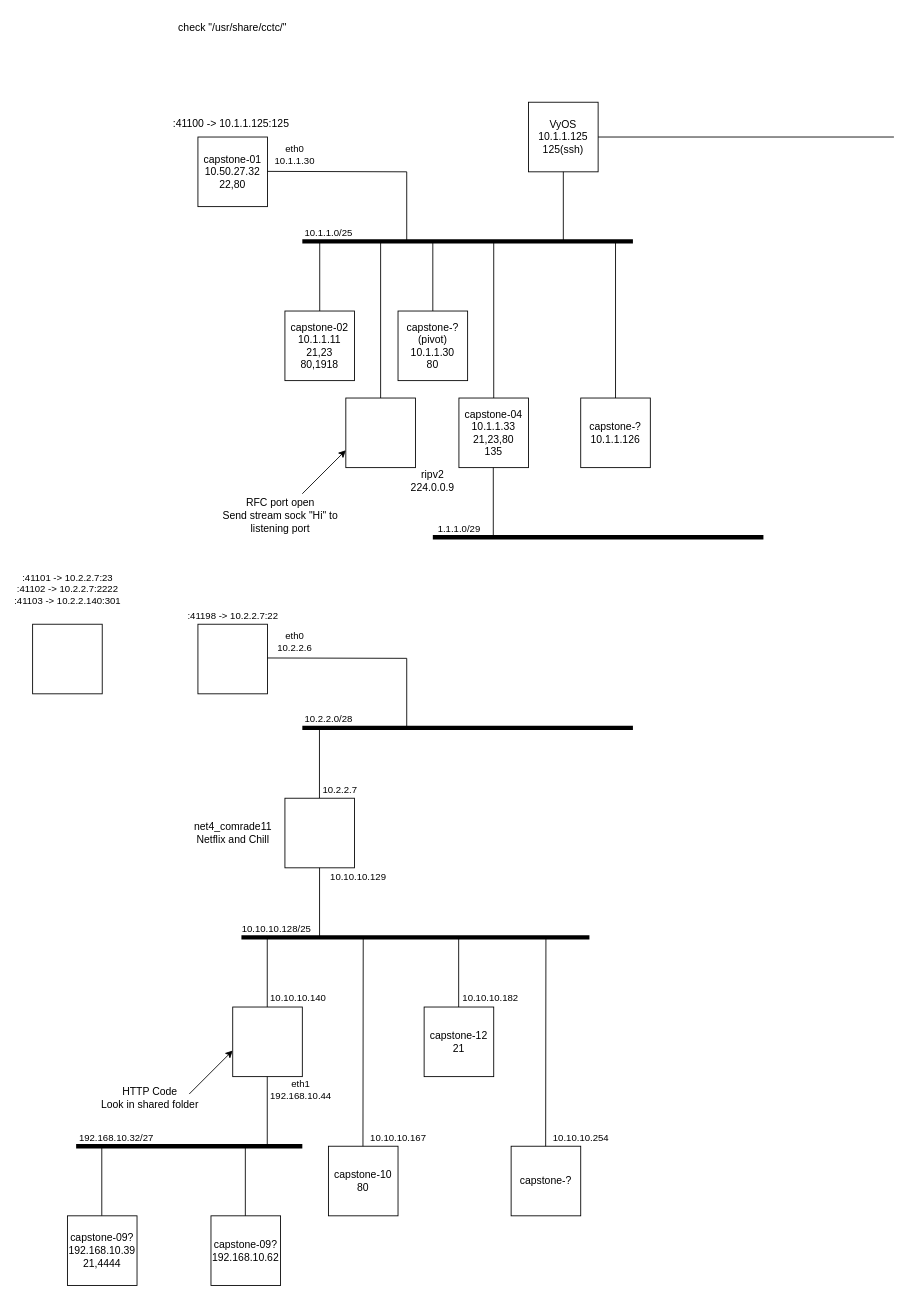
Image size: 911x1301. Some labels were removed from this diagram. Each missing label, with the centre of its shape:
capstone-03 10.1.1.25 21,791,4869: point (380, 432)
capstone-06 10.50.41.66 80,7777: point (232, 658)
capstone-07 23,80,2222: point (319, 832)
capstone-08 (pivot) 21,301: point (267, 1041)
me: point (67, 658)
